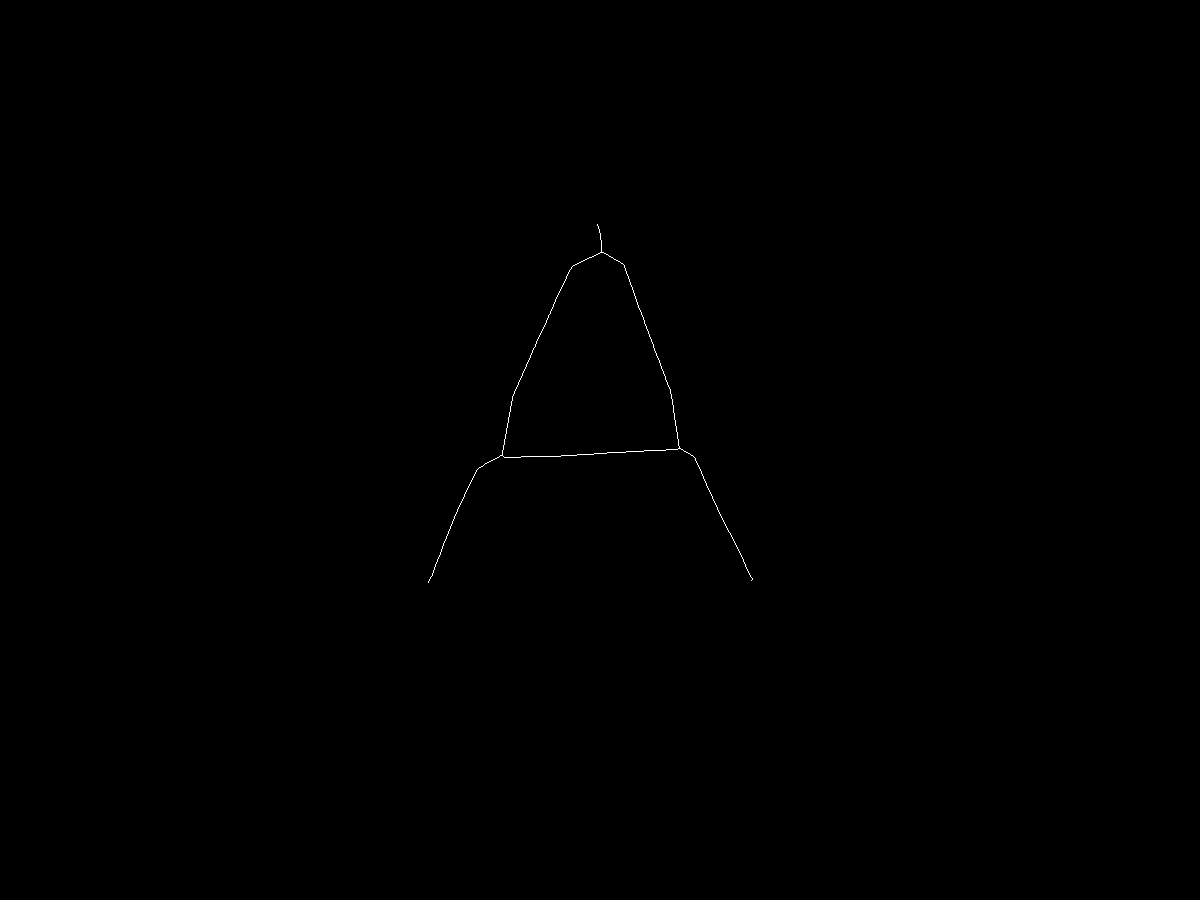dian1: (594, 244, 610, 260)
dian2: (495, 448, 512, 465)
dian3: (419, 577, 438, 596)
dian4: (671, 439, 688, 456)
dian5: (738, 568, 758, 588)
